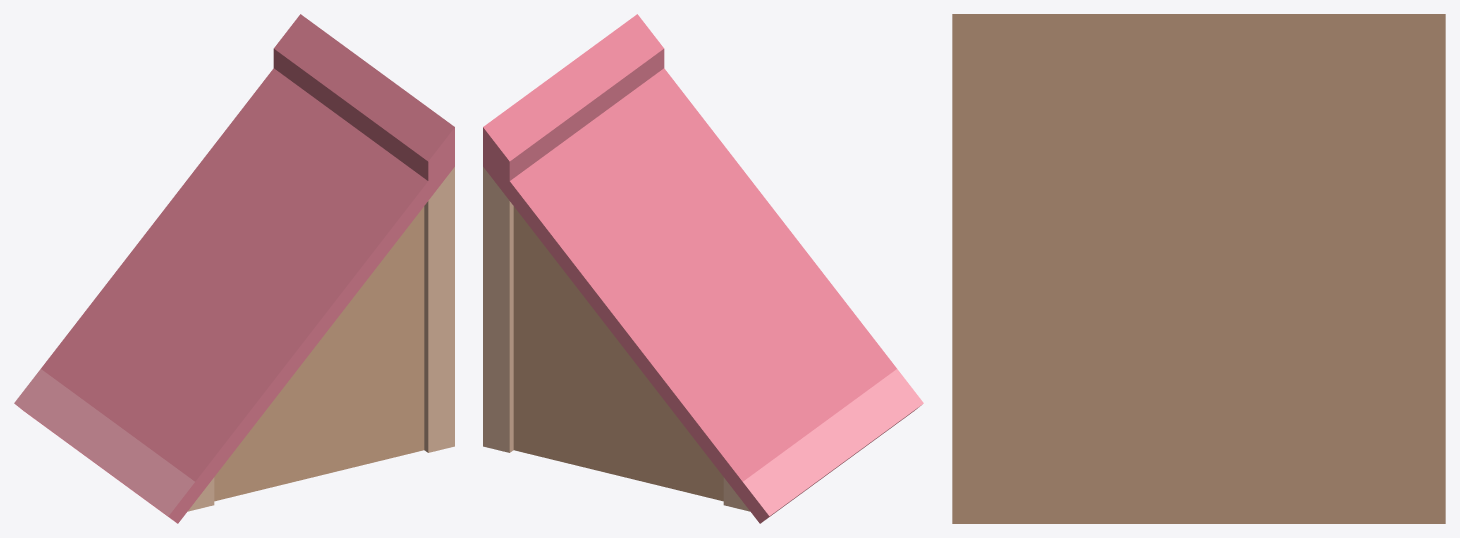
The picture shows the model from 3 angles, left to right: view 1: azimuth 30°, elevation 25°; view 2: azimuth 150°, elevation 25°; view 3: azimuth 270°, elevation 25°; orthographic projection. The views are drawn at different scales.
Visible parts, largest first — view 1: roofHigh; view 2: roofHigh; view 3: roofHigh.
Boxes of the visible parts, x1,y1,x2,y2 form: roofHigh: (14, 14, 454, 523); roofHigh: (483, 14, 923, 523); roofHigh: (952, 14, 1445, 523).
Size of the model in its own units: 1.07 by 1.18 by 1.
